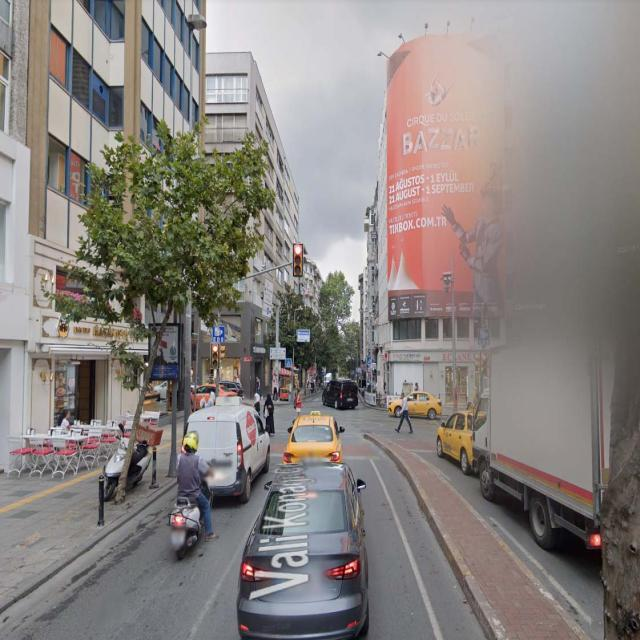kirmizi: (294, 242, 304, 276), (211, 344, 219, 372)
